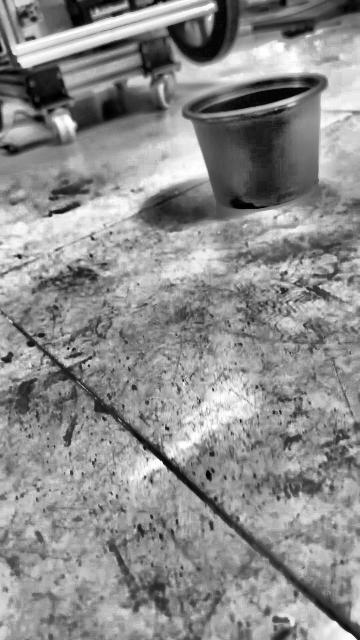pot: (183, 73, 327, 208)
